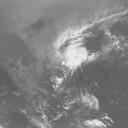cyclone: (62, 41, 88, 66)
